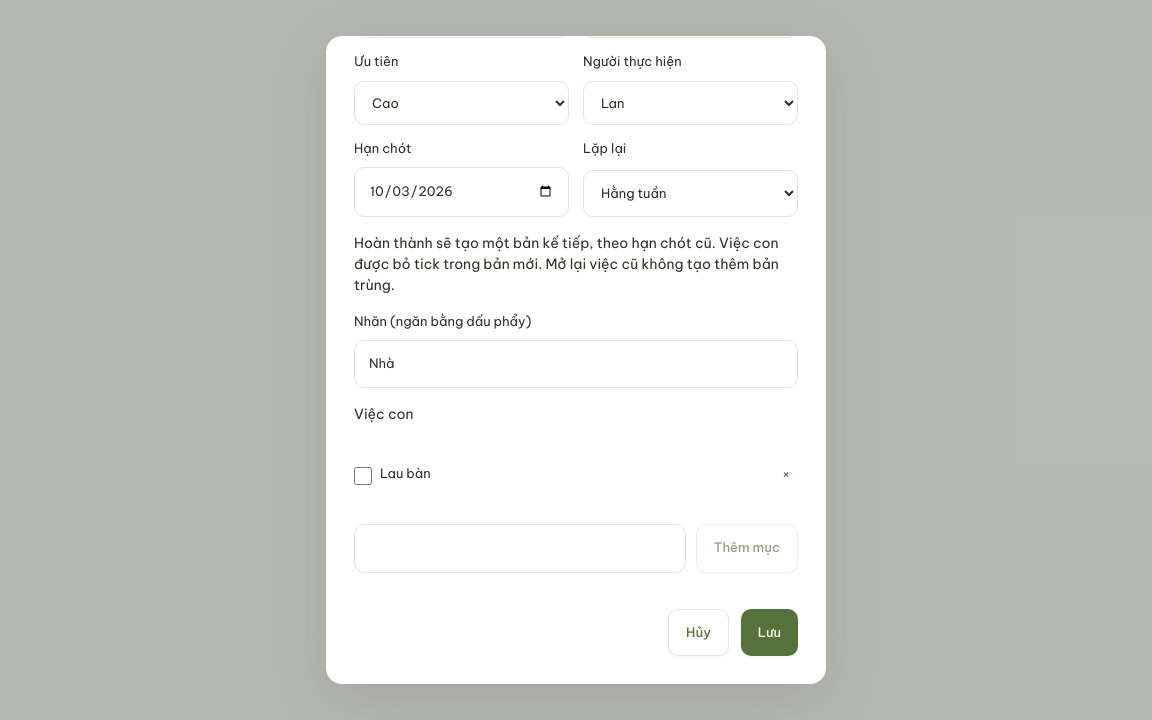
Test case: xung đột hiện lỗi và giữ nội dung để người dùng tải lại
(page scrolled)
Click the button "Lưu" at [769, 632], box [741,608,798,656]
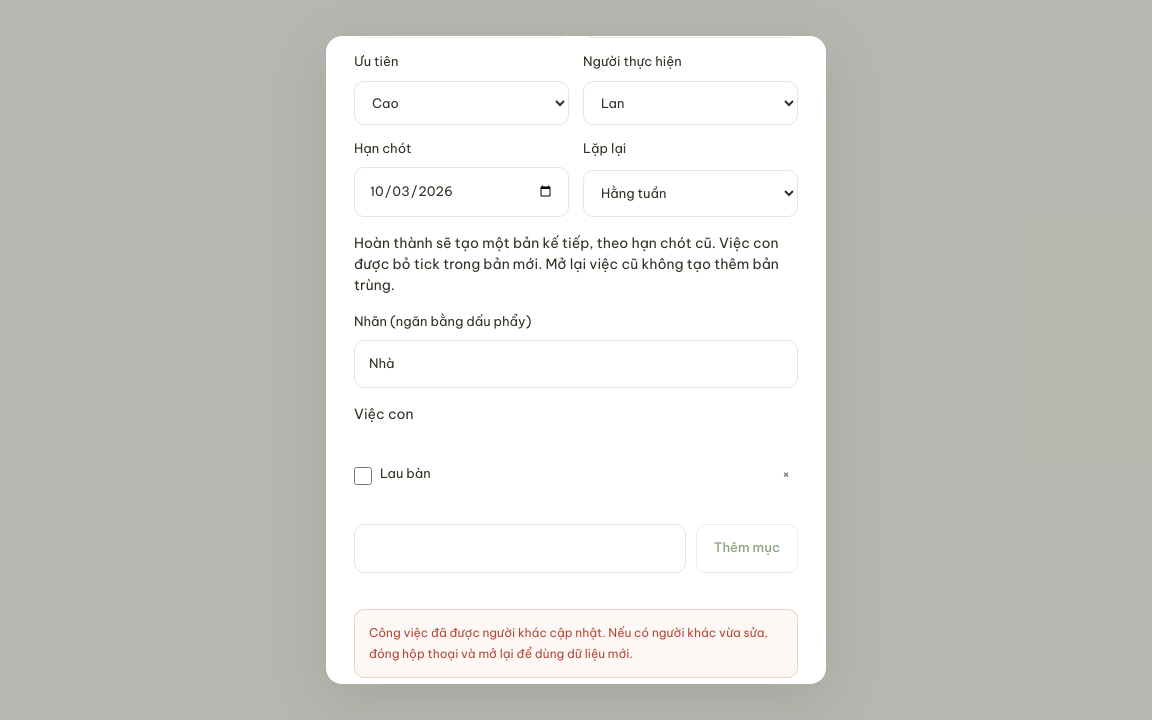
Expected: the message shows "Công việc đã được người khác cập nhật", [369,624,606,640]
